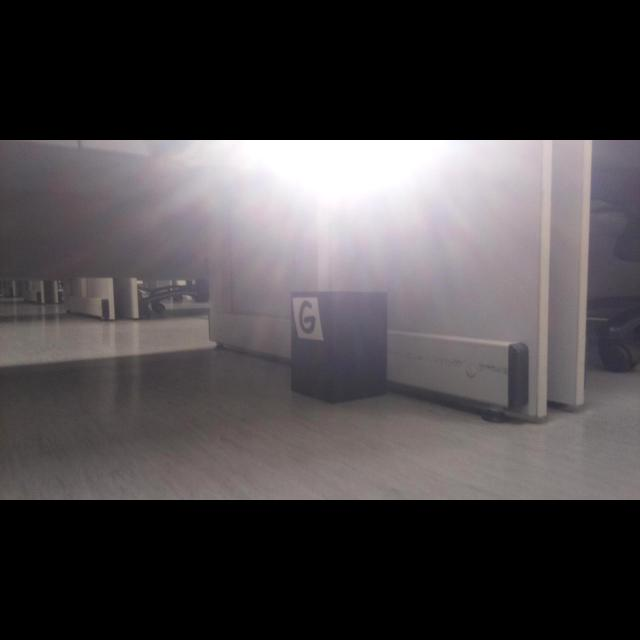G: (299, 301, 315, 333)
